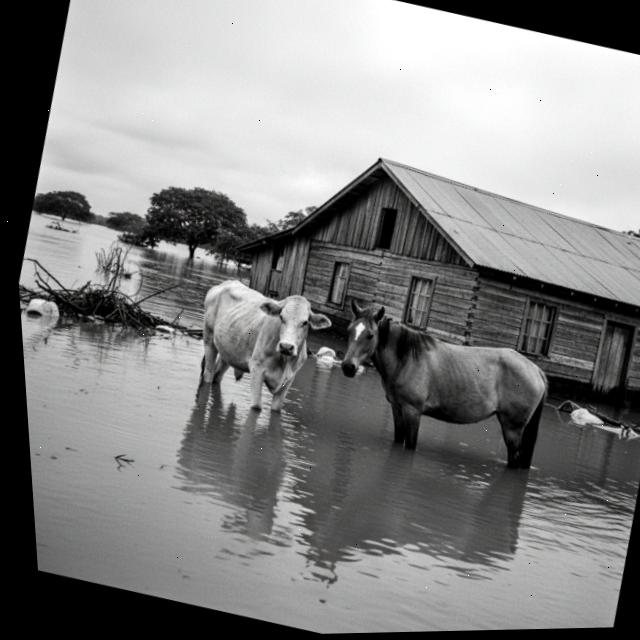cow: (174, 262, 348, 436)
horse: (309, 287, 582, 496)
